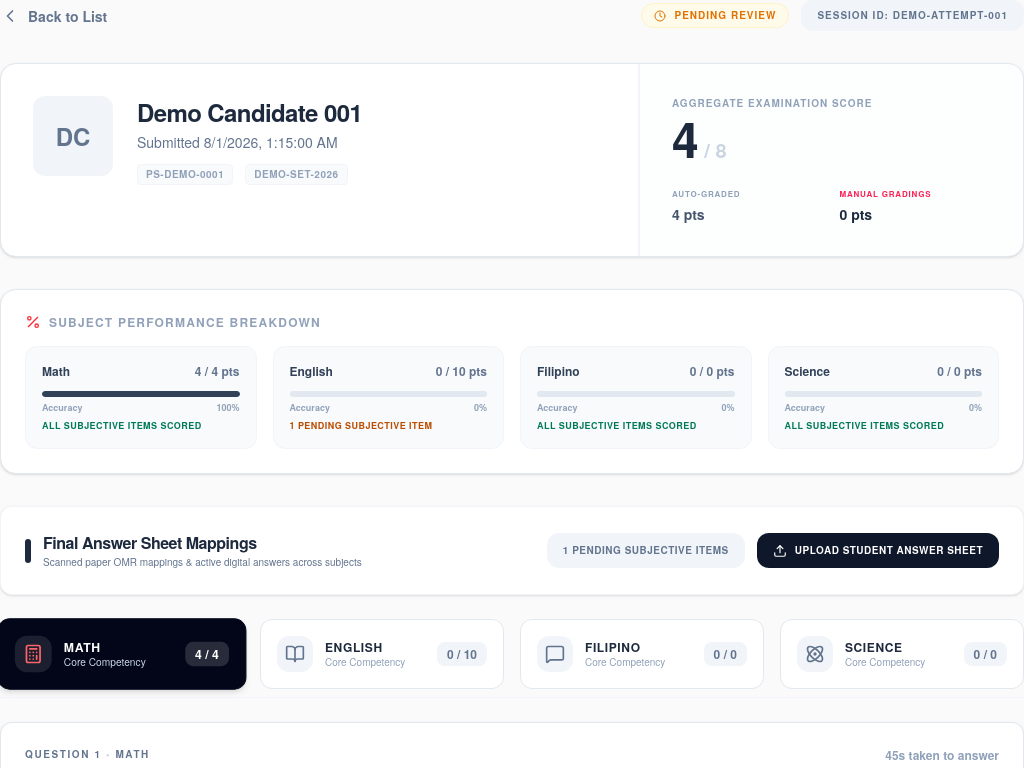
ExamReviewDetail › shows a fallback when a subjective item has no rubric text
Click the button "English Core Competency 0 / 10": (382, 654) [260, 619, 504, 689]
(page scrolled)
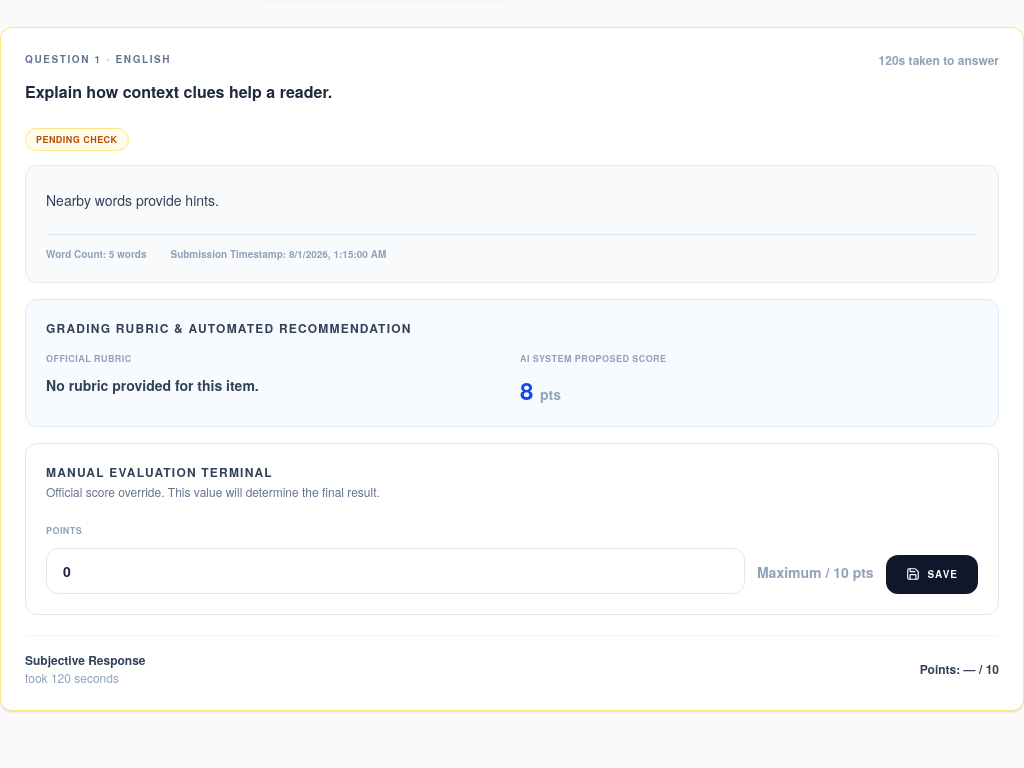
Expected: the text "No rubric provided for this item." is shown, [46, 374, 259, 394]
